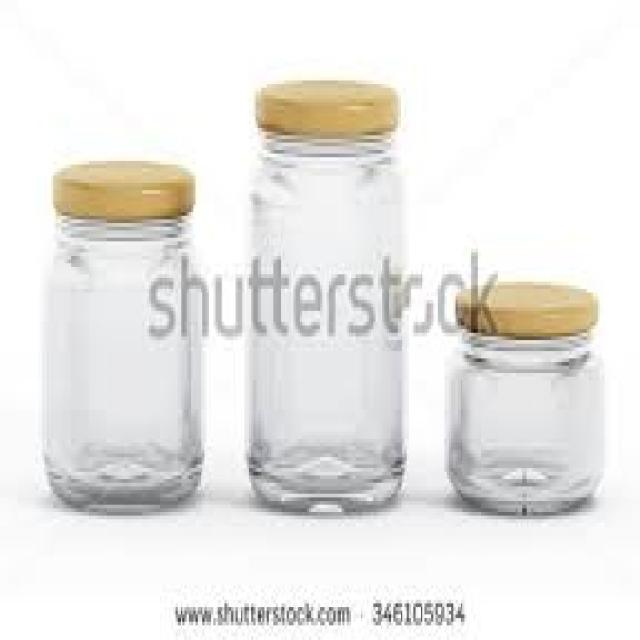glass: (247, 128, 405, 512), (44, 212, 200, 508), (442, 333, 600, 516)
metal: (454, 278, 594, 333), (256, 77, 396, 128), (53, 161, 191, 212)
